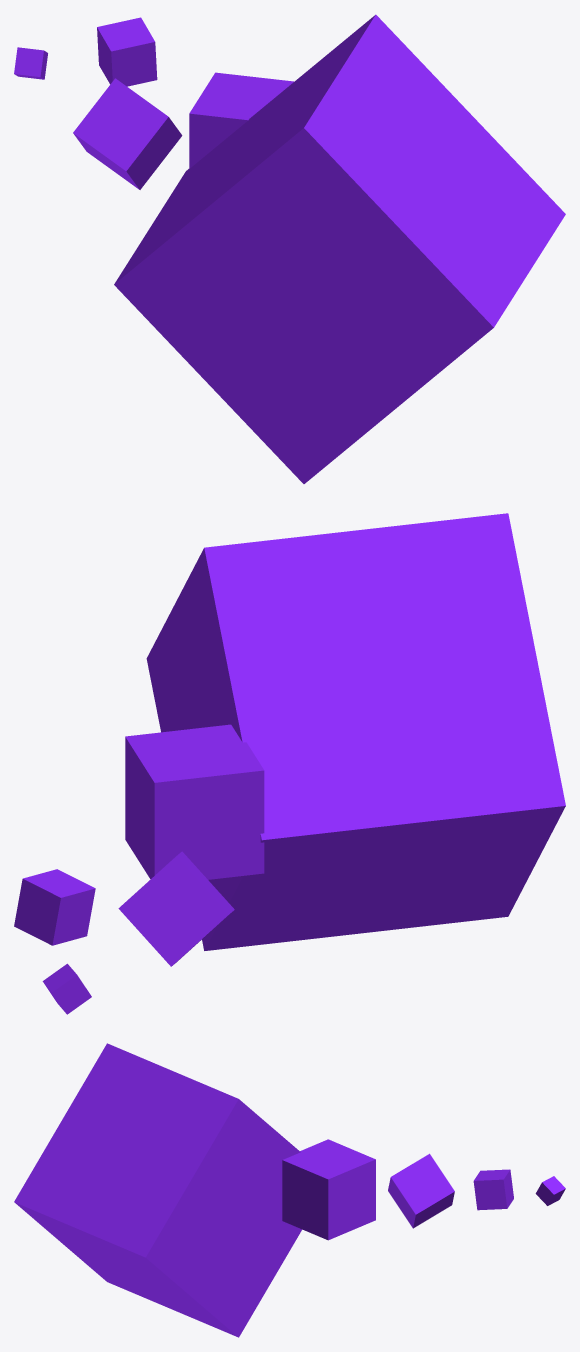
The model's file is CubeBolt.obj.
3 views of the same model, one above another, from view 1: azimuth 30°, elevation 25°; view 2: azimuth 150°, elevation 25°; view 3: azimuth 270°, elevation 25° (orthographic). The views are drawn at different scales.
Visible parts, largest first — view 1: CubeBolt; view 2: CubeBolt; view 3: CubeBolt.
Boxes of the visible parts, bbox=[...] form: CubeBolt: bbox=[14, 14, 565, 483]; CubeBolt: bbox=[14, 513, 565, 1014]; CubeBolt: bbox=[14, 1043, 565, 1337].
Bounding box in the file's own units: 0.6146 × 0.5091 × 1.07.
